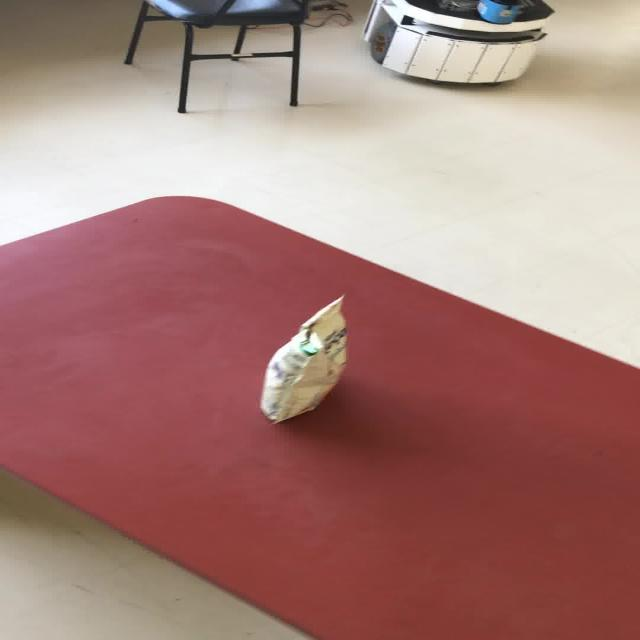corn flakes: (257, 293, 347, 424)
